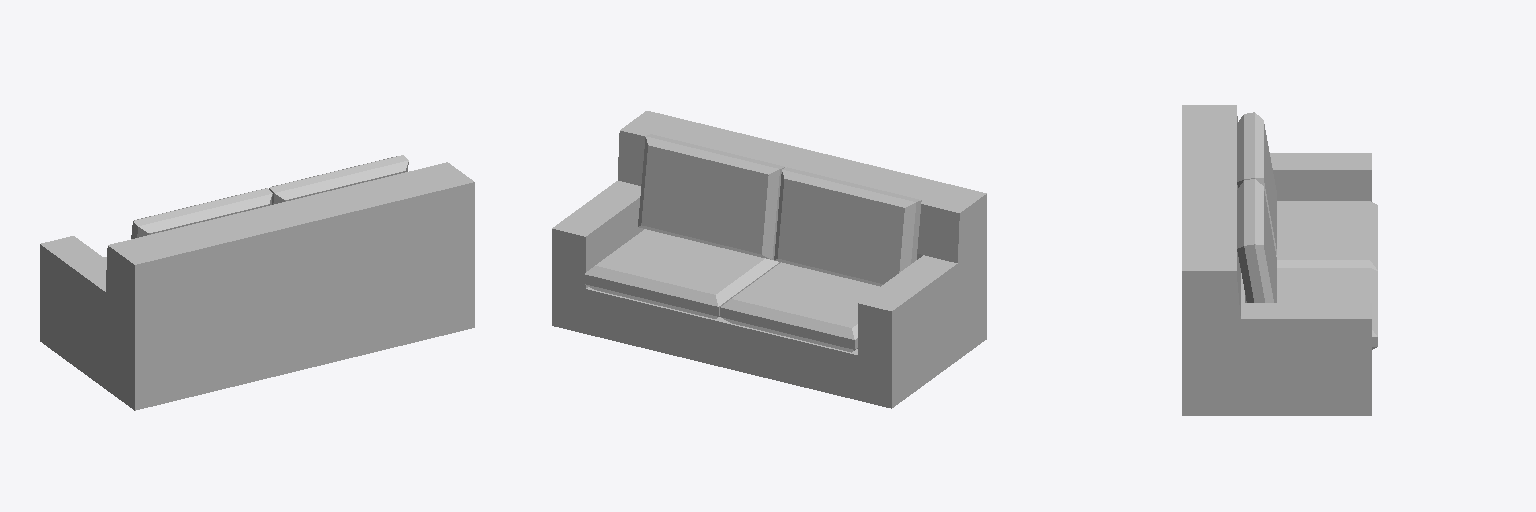
File: Low_Poly_Two_Seater_Couch.obj
The picture shows the model from 3 angles: view 1: azimuth 30°, elevation 25°; view 2: azimuth 150°, elevation 25°; view 3: azimuth 270°, elevation 25°; orthographic projection.
Visible parts, largest first — view 1: Base Low_Poly_Two_Seater_Couch, Low_Poly_Two_Seater_Couch Cushion4, Low_Poly_Two_Seater_Couch Cushion2; view 2: Base Low_Poly_Two_Seater_Couch, Low_Poly_Two_Seater_Couch Cushion2, Low_Poly_Two_Seater_Couch Cushion4, Low_Poly_Two_Seater_Couch Cushion1, Low_Poly_Two_Seater_Couch Cushion3; view 3: Base Low_Poly_Two_Seater_Couch, Low_Poly_Two_Seater_Couch Cushion3, Low_Poly_Two_Seater_Couch Cushion2, Low_Poly_Two_Seater_Couch Cushion1, Low_Poly_Two_Seater_Couch Cushion4.
Boxes of the visible parts, x1=… form: Base Low_Poly_Two_Seater_Couch: x1=40, y1=162, x2=474, y2=410; Low_Poly_Two_Seater_Couch Cushion4: x1=131, y1=188, x2=272, y2=238; Low_Poly_Two_Seater_Couch Cushion2: x1=269, y1=155, x2=408, y2=204; Base Low_Poly_Two_Seater_Couch: x1=552, y1=111, x2=986, y2=408; Low_Poly_Two_Seater_Couch Cushion2: x1=638, y1=134, x2=784, y2=259; Low_Poly_Two_Seater_Couch Cushion4: x1=774, y1=167, x2=921, y2=286; Low_Poly_Two_Seater_Couch Cushion1: x1=584, y1=229, x2=780, y2=318; Low_Poly_Two_Seater_Couch Cushion3: x1=720, y1=262, x2=879, y2=352; Base Low_Poly_Two_Seater_Couch: x1=1182, y1=105, x2=1371, y2=415; Low_Poly_Two_Seater_Couch Cushion3: x1=1276, y1=201, x2=1377, y2=270; Low_Poly_Two_Seater_Couch Cushion2: x1=1237, y1=179, x2=1276, y2=302; Low_Poly_Two_Seater_Couch Cushion1: x1=1245, y1=268, x2=1377, y2=349; Low_Poly_Two_Seater_Couch Cushion4: x1=1237, y1=112, x2=1276, y2=254.
Bounding box in the file's own units: 28.55 × 12.43 × 14.23.